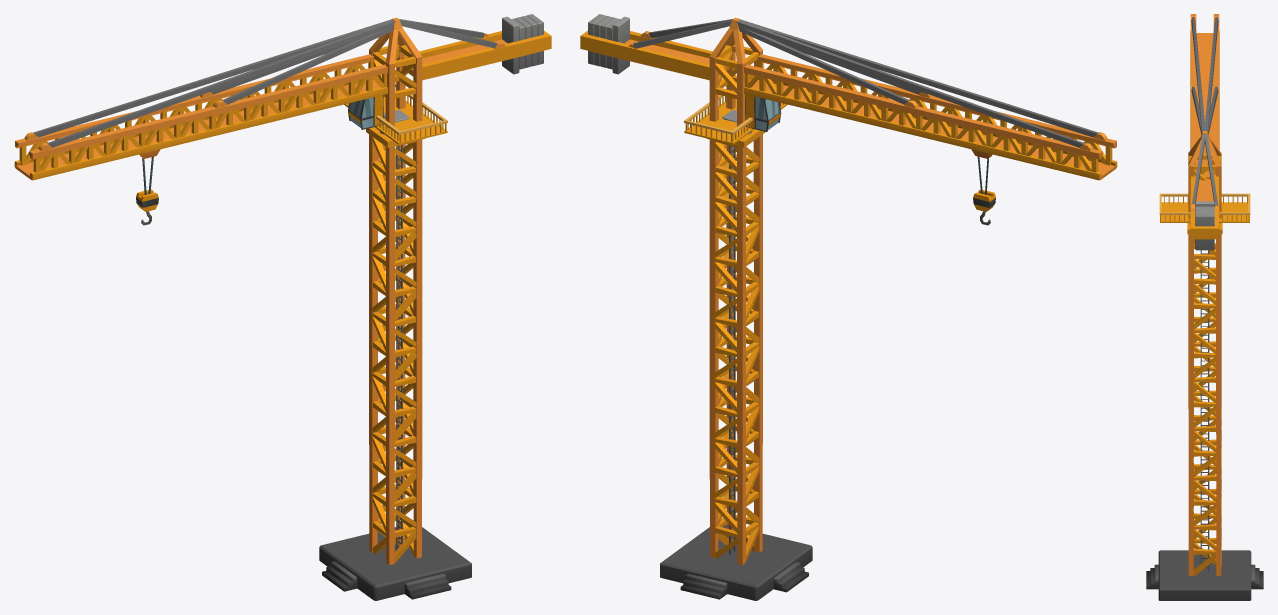
File: Crane.fbx
The picture shows the model from 3 angles, left to right: view 1: azimuth 30°, elevation 25°; view 2: azimuth 150°, elevation 25°; view 3: azimuth 270°, elevation 25°; orthographic projection. The views are drawn at different scales.
Parts seen in each view (by area): view 1: TowerCrane_Top, TowerCrane, TowerCrane_Hook_1_1; view 2: TowerCrane_Top, TowerCrane, TowerCrane_Hook_1_1; view 3: TowerCrane, TowerCrane_Top.
Part boxes in pixels (x1=…): TowerCrane_Top: x1=14, y1=14, x2=551, y2=180; TowerCrane: x1=319, y1=127, x2=471, y2=600; TowerCrane_Hook_1_1: x1=136, y1=149, x2=160, y2=225; TowerCrane_Top: x1=580, y1=14, x2=1117, y2=180; TowerCrane: x1=660, y1=129, x2=812, y2=600; TowerCrane_Hook_1_1: x1=971, y1=149, x2=995, y2=225; TowerCrane: x1=1146, y1=223, x2=1263, y2=600; TowerCrane_Top: x1=1159, y1=14, x2=1250, y2=250.
Bounding box in the file's own units: 15.3 × 15.45 × 3.66.
